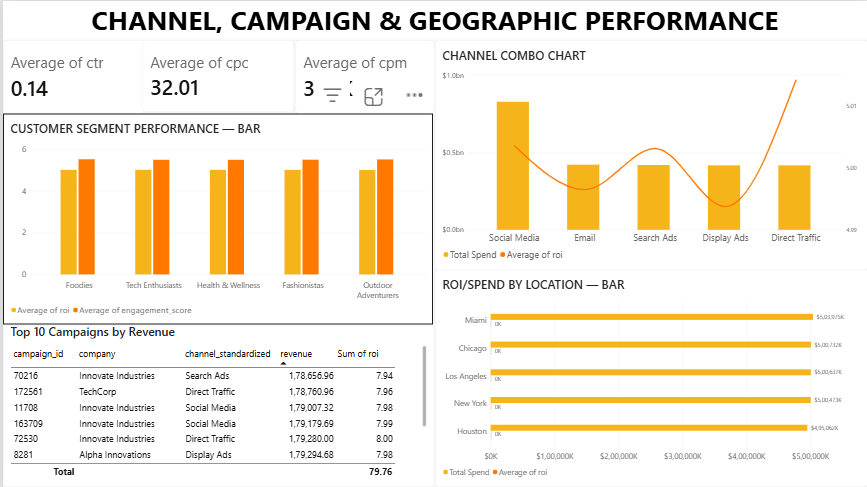

This screenshot's page, from the dashboard's own definition file:
{"tool":"powerbi","page":{"name":"CHANNEL, CAMPAIGN & GEOGRAPHIC PERFORMANCE","canvas":[1920,1080],"ordinal":1},"visuals":[{"type":"cardVisual","fields":{"Data":["Avg(campaign_with_segments.ctr)"]},"box":[0,75.6,314.6,172.9],"z":0},{"type":"cardVisual","fields":{"Data":["Avg(campaign_with_segments.cpc)"]},"box":[309.9,73.2,337.3,172.9],"z":1000},{"type":"cardVisual","fields":{"Data":["Avg(campaign_with_segments.cpm)"]},"box":[649,75.6,309,172.9],"z":2000},{"type":"tableEx","title":"Top 10 Campaigns by Revenue","fields":{"Values":["campaign_with_segments.campaign_id","campaign_with_segments.company","campaign_with_segments.channel_standardized","campaign_with_segments.revenue","Sum(campaign_with_segments.roi)"]},"box":[0,700.2,958.1,379.8],"z":3000},{"type":"textbox","box":[0,0,1920.1,75.6],"z":4000},{"type":"clusteredBarChart","title":"ROI/SPEND BY LOCATION — BAR","fields":{"Category":["campaign_with_segments.location"],"Y":["Key Measures.Total Spend","Avg(campaign_with_segments.roi)"]},"box":[958.8,597.8,961.3,483.1],"z":5000},{"type":"clusteredColumnChart","title":"CUSTOMER SEGMENT PERFORMANCE  — BAR","fields":{"Category":["campaign_with_segments.customer_segment"],"Y":["Avg(campaign_with_segments.roi)","Avg(campaign_with_segments.engagement_score)"]},"box":[0,249.5,958.1,470.6],"z":6000},{"type":"lineClusteredColumnComboChart","title":"CHANNEL COMBO CHART","fields":{"Category":["campaign_with_segments.channel_standardized"],"Y":["Key Measures.Total Spend"],"Y2":["Avg(campaign_with_segments.roi)"]},"box":[958.8,75.6,961,521.6],"z":7000}]}

Visuals, with their boxes in screenshot pixels (x1, y1, x2, y2), scaled from the page's 1920x1080 canvas onto the 867x487 screenshot:
cardVisual - Avg(campaign_with_segments.ctr): Rect(0, 34, 142, 112)
cardVisual - Avg(campaign_with_segments.cpc): Rect(140, 33, 292, 111)
cardVisual - Avg(campaign_with_segments.cpm): Rect(293, 34, 433, 112)
"Top 10 Campaigns by Revenue" tableEx: Rect(0, 316, 433, 486)
textbox: Rect(0, 0, 866, 34)
"ROI/SPEND BY LOCATION — BAR" clusteredBarChart: Rect(433, 270, 866, 486)
"CUSTOMER SEGMENT PERFORMANCE  — BAR" clusteredColumnChart: Rect(0, 113, 433, 325)
"CHANNEL COMBO CHART" lineClusteredColumnComboChart: Rect(433, 34, 866, 269)
